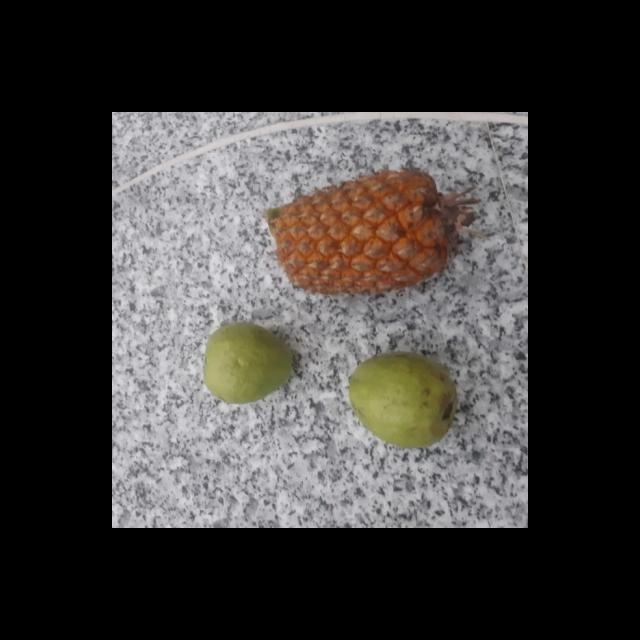guava: (350, 353, 460, 446), (202, 324, 299, 404)
pineapple: (258, 167, 476, 297)
